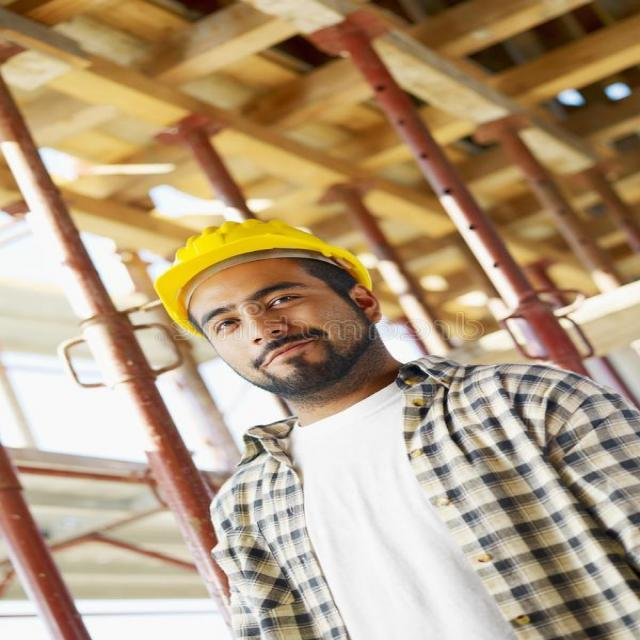safety_helmet: (147, 214, 380, 325)
